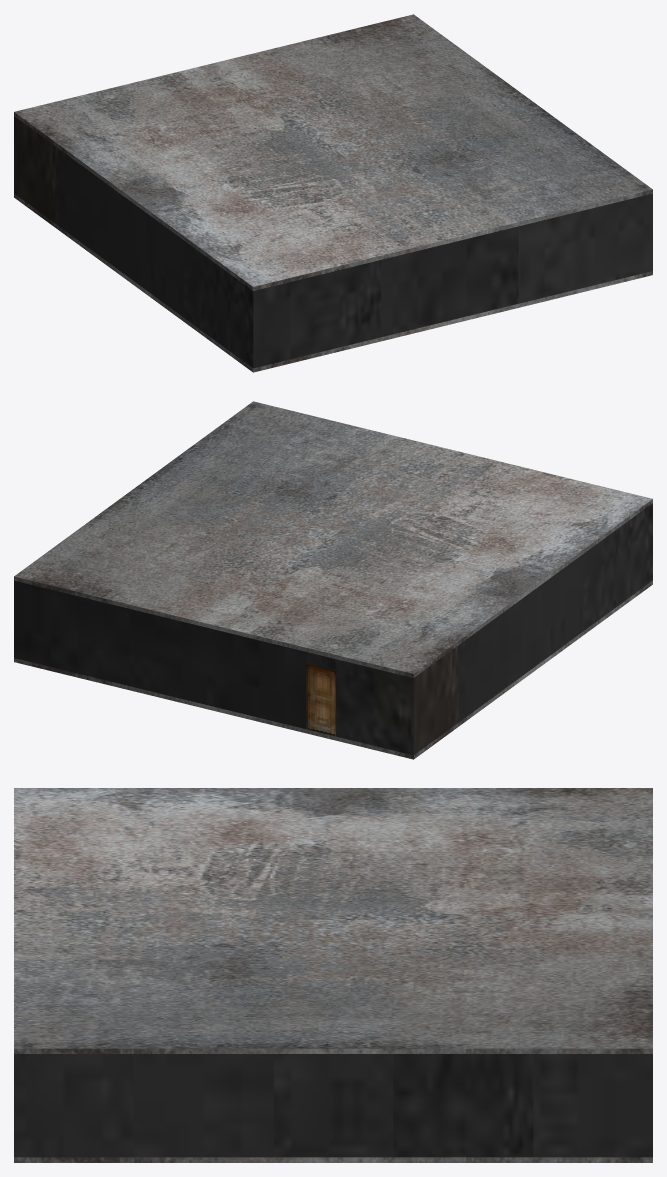
File: karakol.fbx
3 renders of one model, top to bottom at view 1: azimuth 30°, elevation 25°; view 2: azimuth 150°, elevation 25°; view 3: azimuth 270°, elevation 25°, orthographic. The views are drawn at different scales.
Parts seen in each view (by area): view 1: Plane.006, DuvarKöşe.024, Plane.020; view 2: Plane.006, DuvarKöşe.024, Plane.020, Cube.059; view 3: Plane.006, DuvarKöşe.024, Plane.020.
Part boxes in pixels (x1=…): Plane.006: x1=14, y1=14, x2=652, y2=290; DuvarKöşe.024: x1=14, y1=116, x2=652, y2=368; Plane.020: x1=14, y1=193, x2=652, y2=372; Plane.006: x1=14, y1=401, x2=652, y2=677; DuvarKöşe.024: x1=14, y1=503, x2=652, y2=755; Plane.020: x1=14, y1=580, x2=652, y2=759; Cube.059: x1=306, y1=664, x2=335, y2=736; Plane.006: x1=14, y1=788, x2=652, y2=1053; DuvarKöşe.024: x1=14, y1=1054, x2=652, y2=1157; Plane.020: x1=14, y1=1157, x2=652, y2=1162.
Bounding box in the file's own units: 1083 × 222 × 1123.
10 materials, 8 textured.
